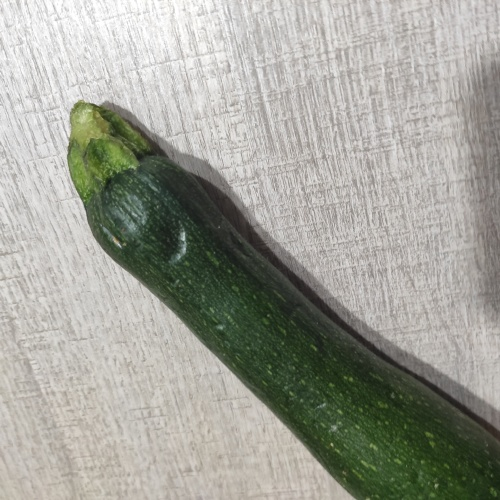zucchine: (67, 108, 476, 493)
